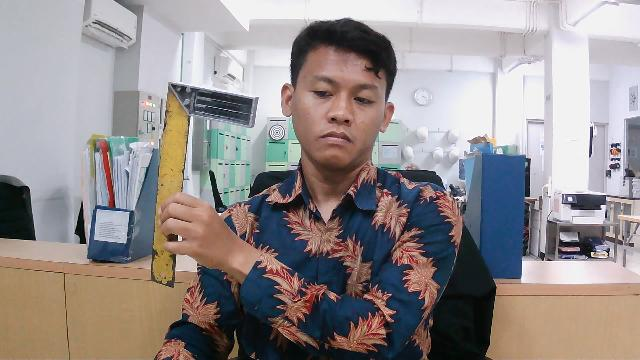penggaris_siku: (149, 79, 261, 293)
